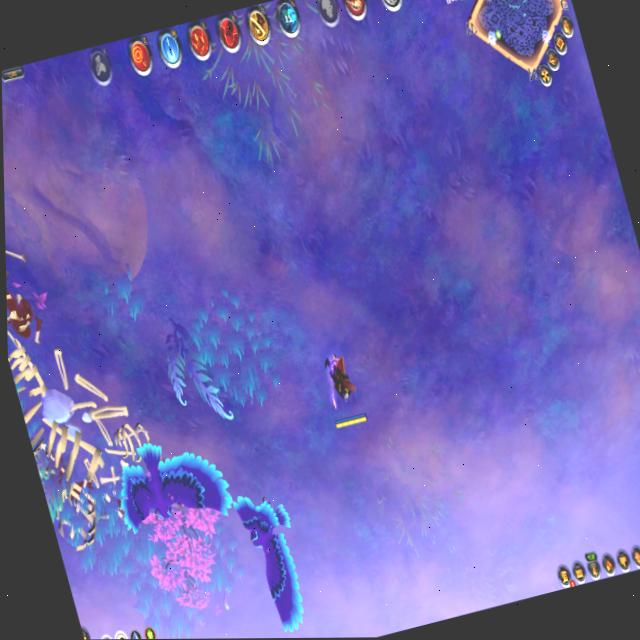ore: (98, 415, 239, 549), (226, 474, 326, 638)
red: (311, 340, 372, 436)
